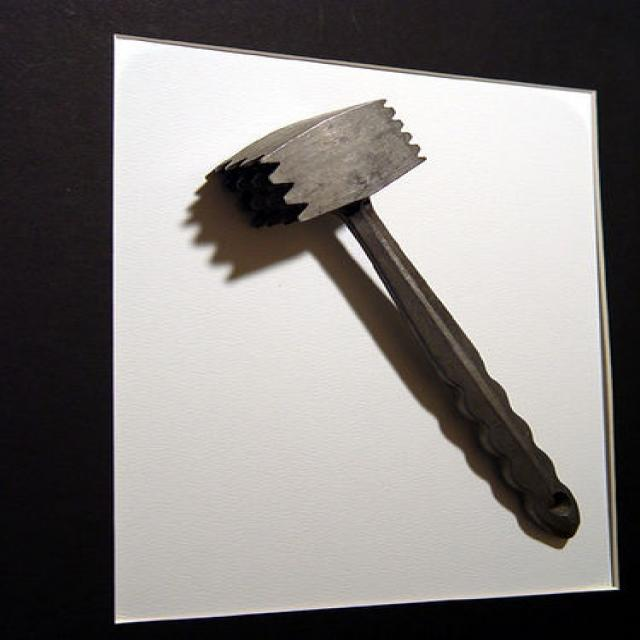hammer: (215, 91, 578, 548)
